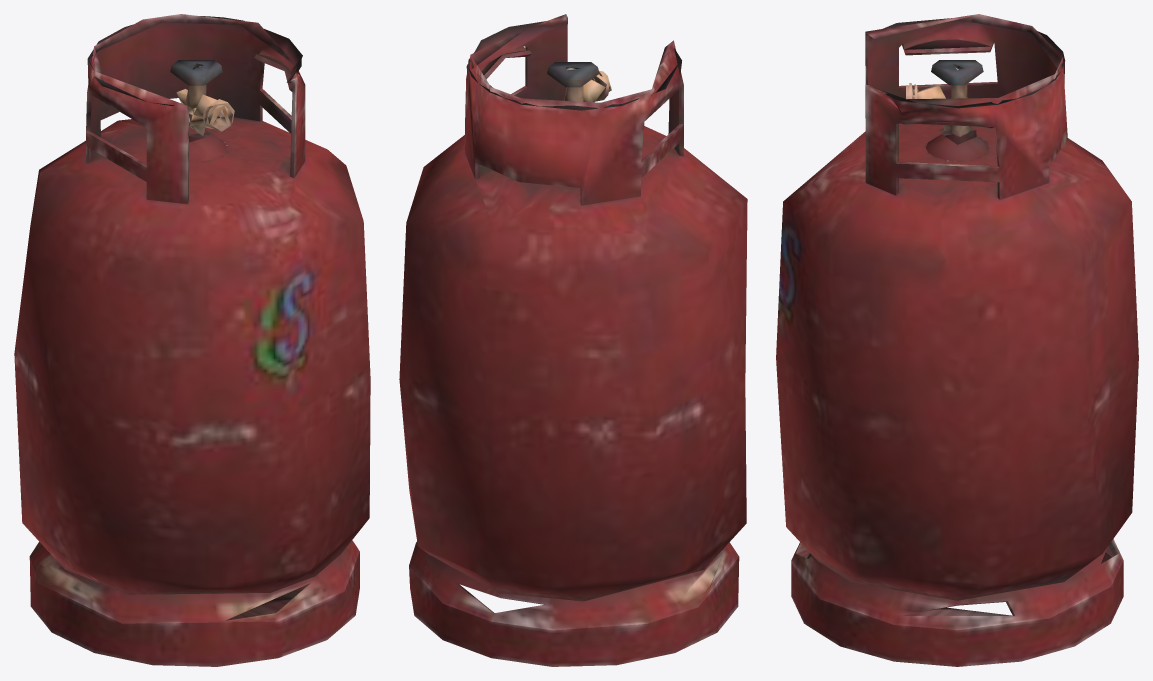
Rendered from propane_tank.glb.
3 views of the same model, side by side, from view 1: azimuth 30°, elevation 25°; view 2: azimuth 150°, elevation 25°; view 3: azimuth 270°, elevation 25° (orthographic).
Parts seen in each view (by area): view 1: propane_tank; view 2: propane_tank; view 3: propane_tank.
Boxes of the visible parts, box(x1,y1,x2,y2) form: propane_tank: box(14, 14, 370, 666); propane_tank: box(399, 14, 747, 666); propane_tank: box(776, 14, 1138, 666).
Bounding box in the file's own units: 0.3341 × 0.5534 × 0.3374.
Materials: 1 (1 with a texture image).
